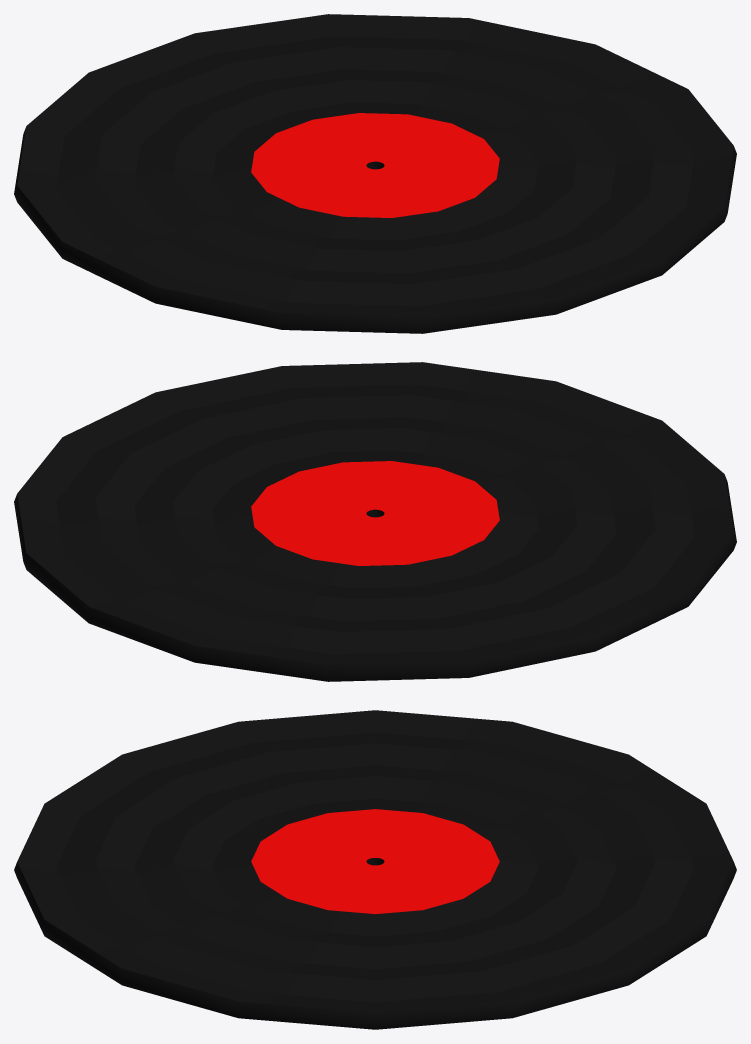
File: vinyldisc.FBX
3 views of the same model, one above another, from view 1: azimuth 30°, elevation 25°; view 2: azimuth 150°, elevation 25°; view 3: azimuth 270°, elevation 25° (orthographic).
Visible parts, largest first — view 1: VinylDisc; view 2: VinylDisc; view 3: VinylDisc.
Part boxes in pixels (<box>): VinylDisc: <box>14,14,736,333</box>; VinylDisc: <box>14,362,736,681</box>; VinylDisc: <box>14,710,736,1029</box>.
Bounding box in the file's own units: 18.91 × 0.4825 × 18.91.
